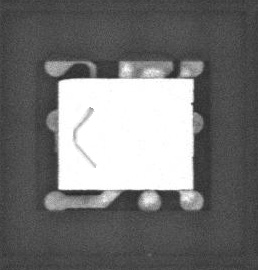DIE_INK: (69, 112, 92, 175)
